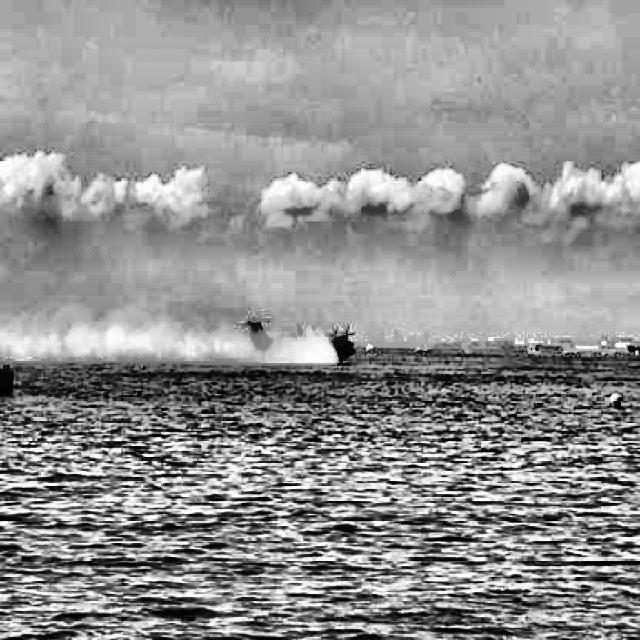US2: (235, 315, 356, 363)
